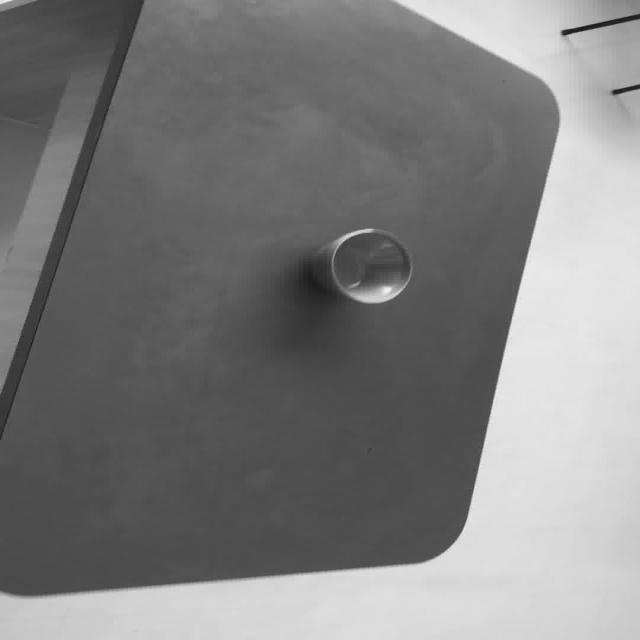bowl: (1, 0, 561, 596), (308, 227, 413, 304)
